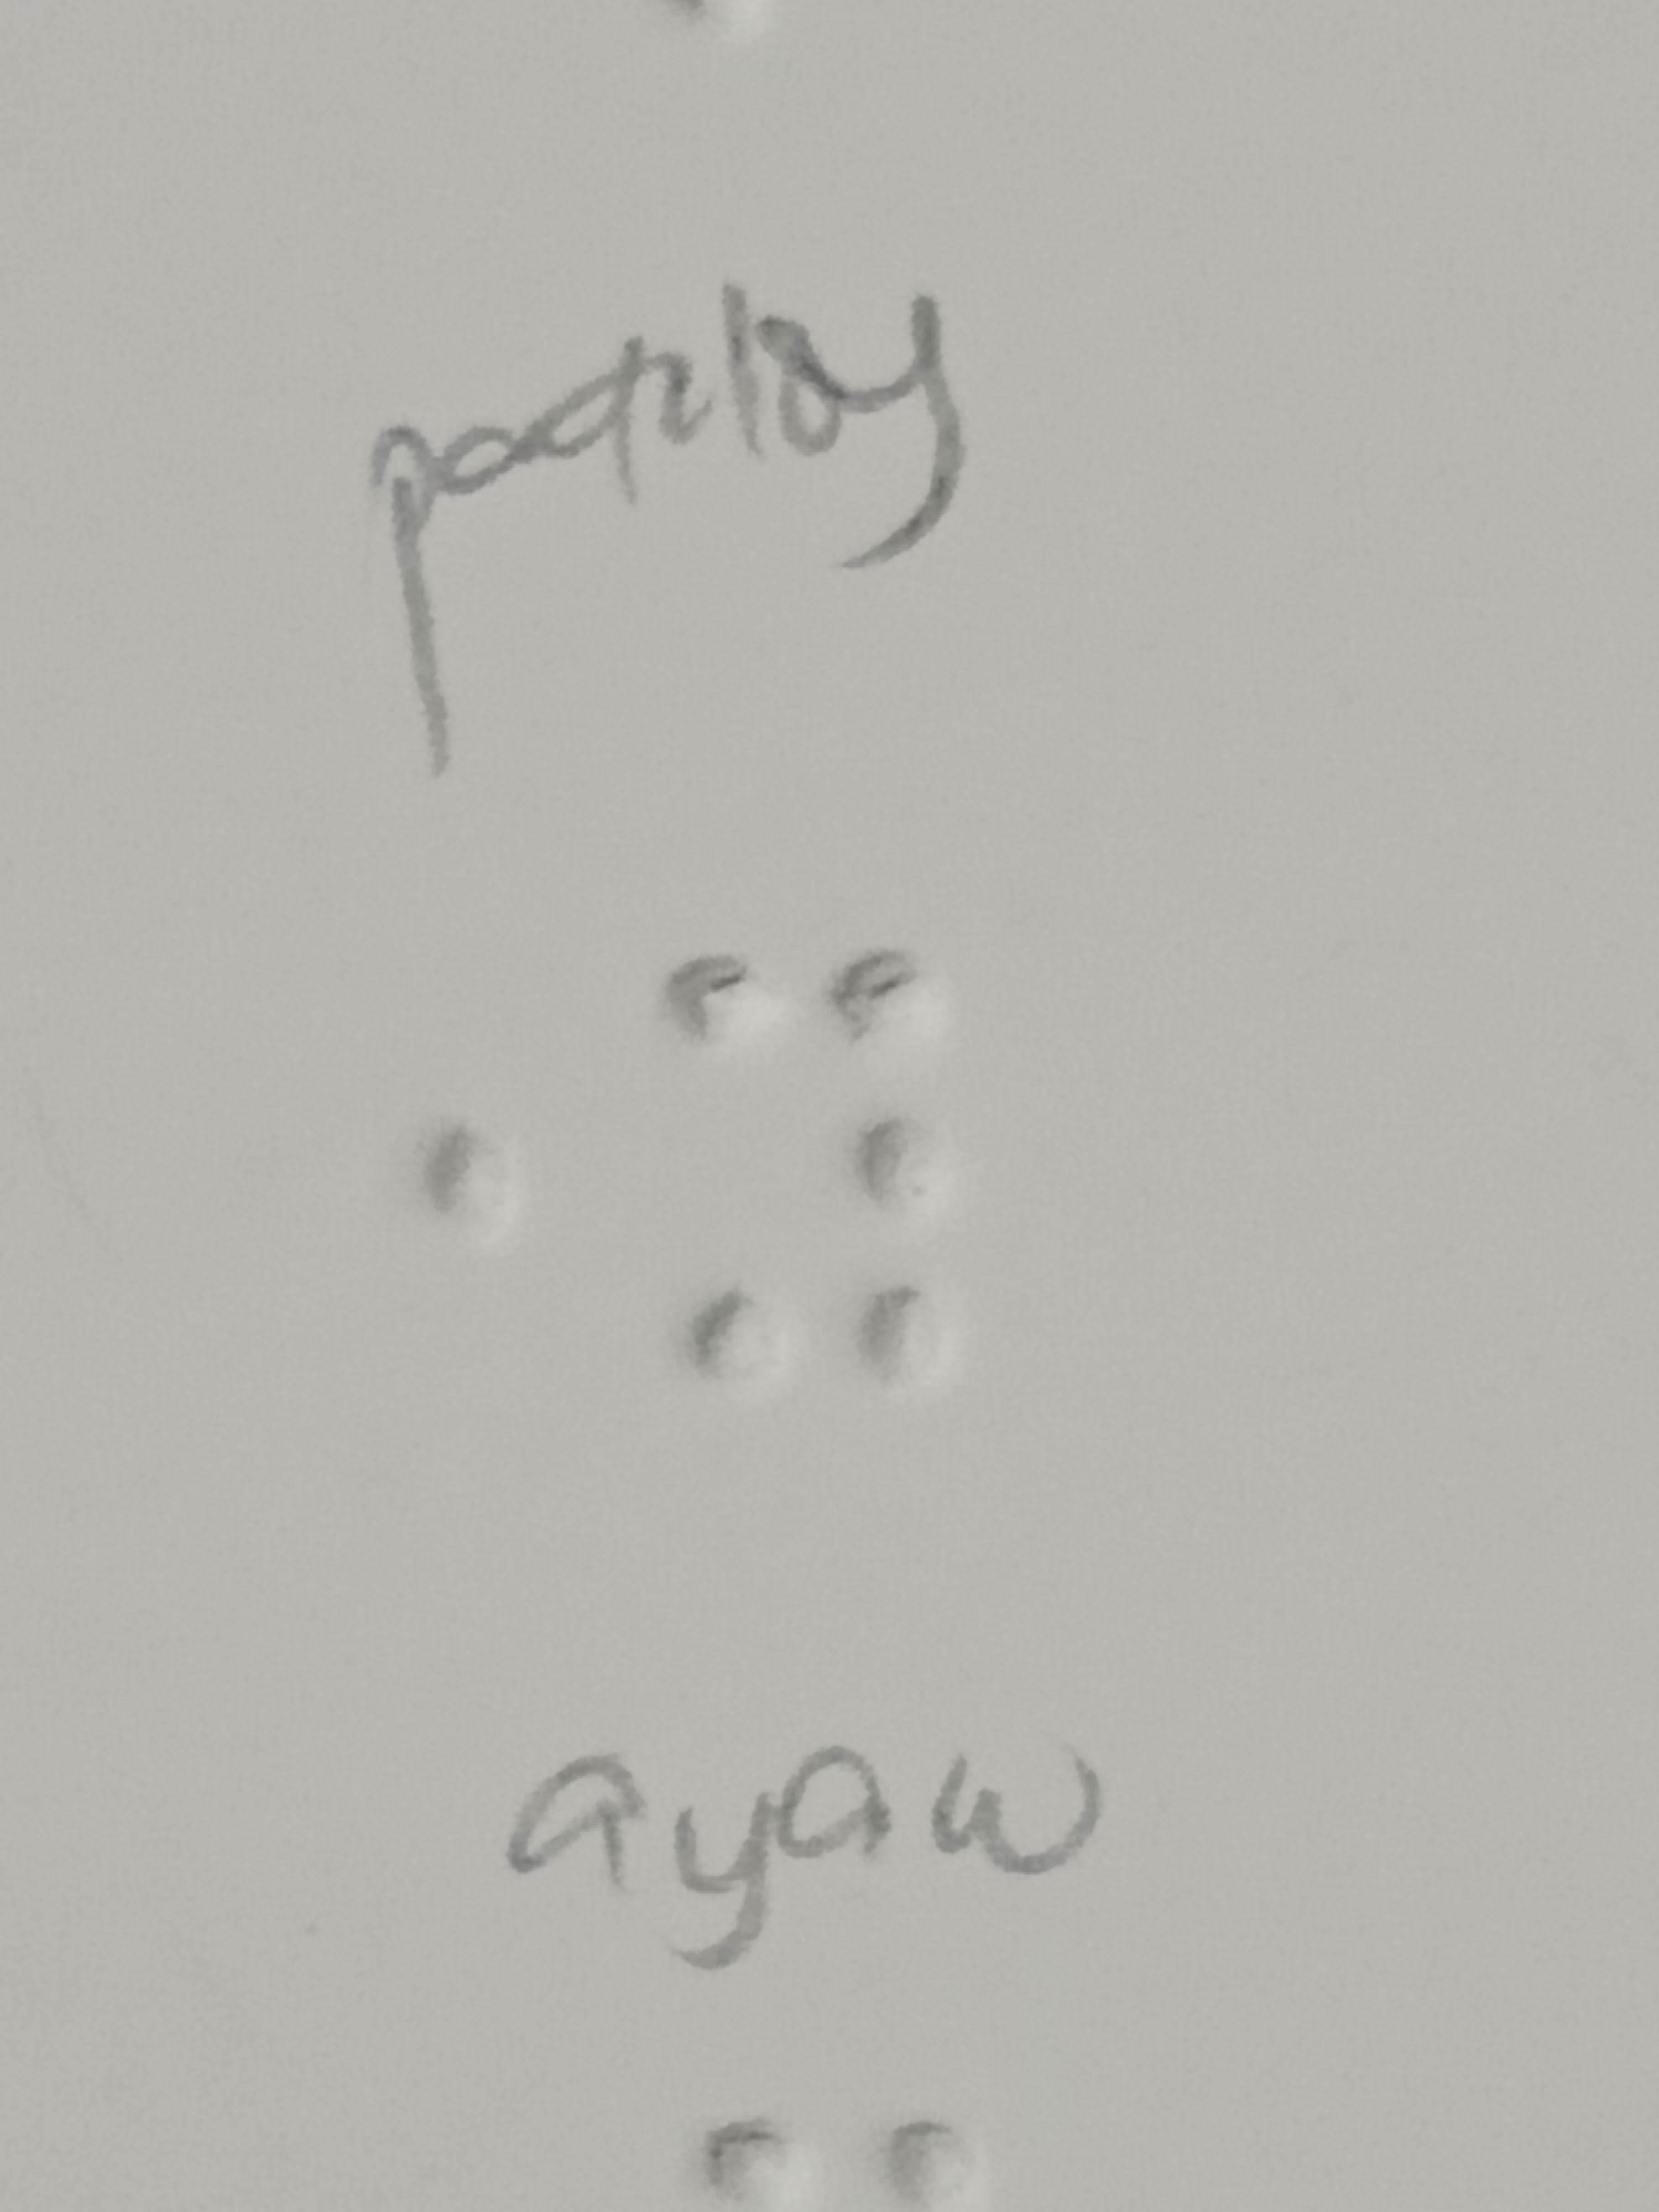dot_5: (234, 935, 514, 1397)
two_cell_alphabet_ayaw: (676, 935, 957, 1397)
